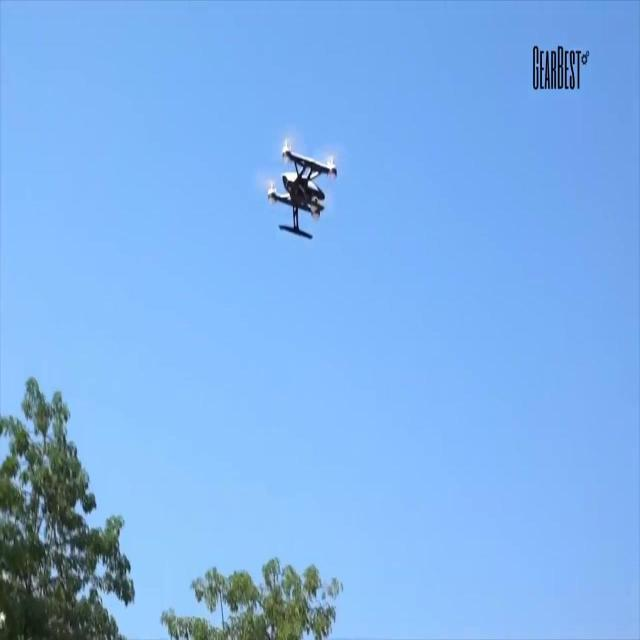drone: (266, 131, 338, 244)
